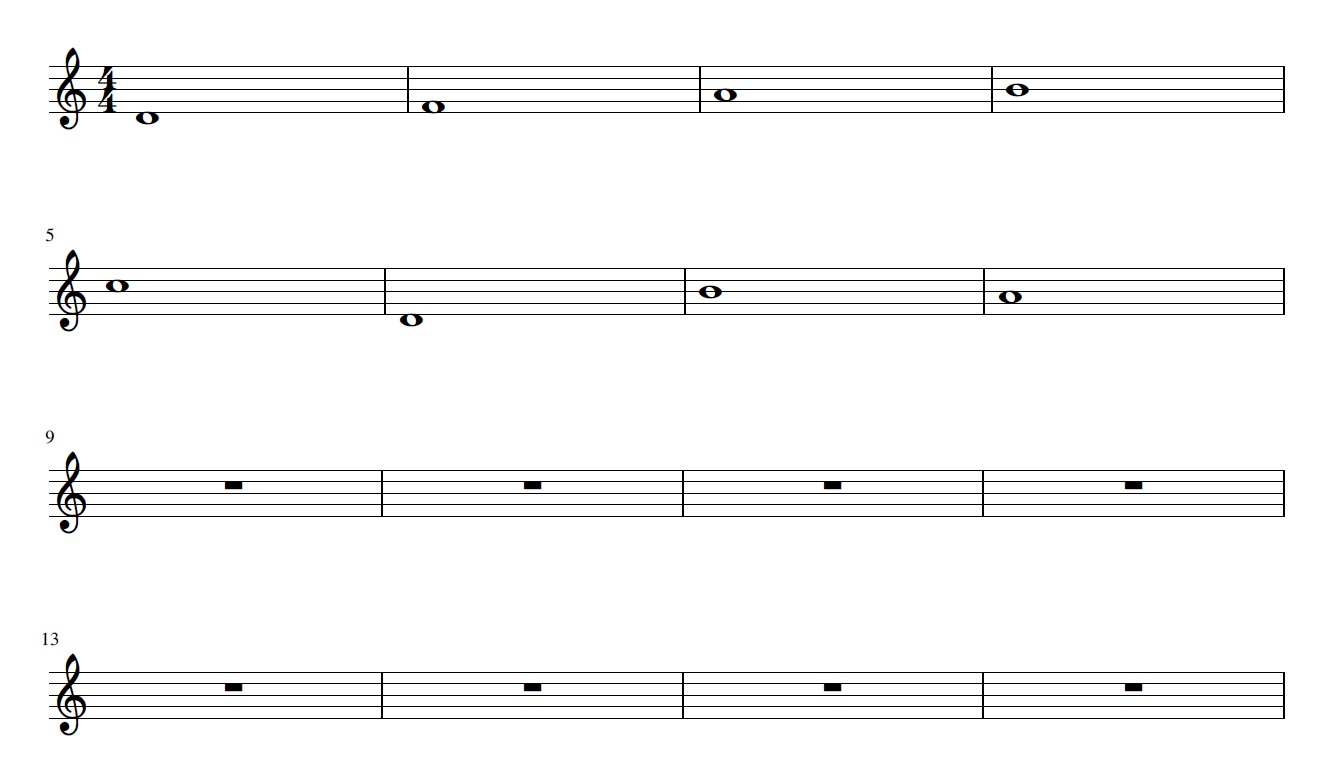key: (48, 39, 91, 140), (48, 447, 92, 542), (50, 245, 92, 343), (48, 650, 92, 743)
pipe: (975, 662, 993, 729), (983, 56, 1001, 122), (675, 663, 693, 729), (675, 462, 693, 526), (398, 58, 416, 120), (977, 459, 993, 528), (376, 261, 394, 322), (375, 663, 391, 728), (692, 59, 708, 123), (376, 460, 389, 527), (978, 258, 991, 324), (678, 261, 692, 322)
semibreve_a: (994, 249, 1026, 344), (709, 47, 740, 144)
semibreve_c: (99, 248, 134, 342)
semibreve_d: (130, 46, 163, 147), (395, 248, 428, 347)
semibreve_f: (417, 45, 447, 148)
semibreve_h: (694, 249, 728, 345), (1002, 48, 1033, 142)
